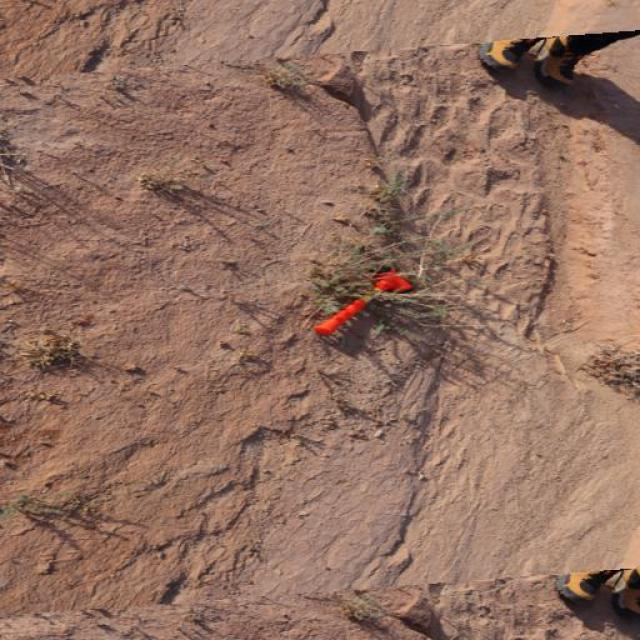mallet: (312, 268, 412, 338)
